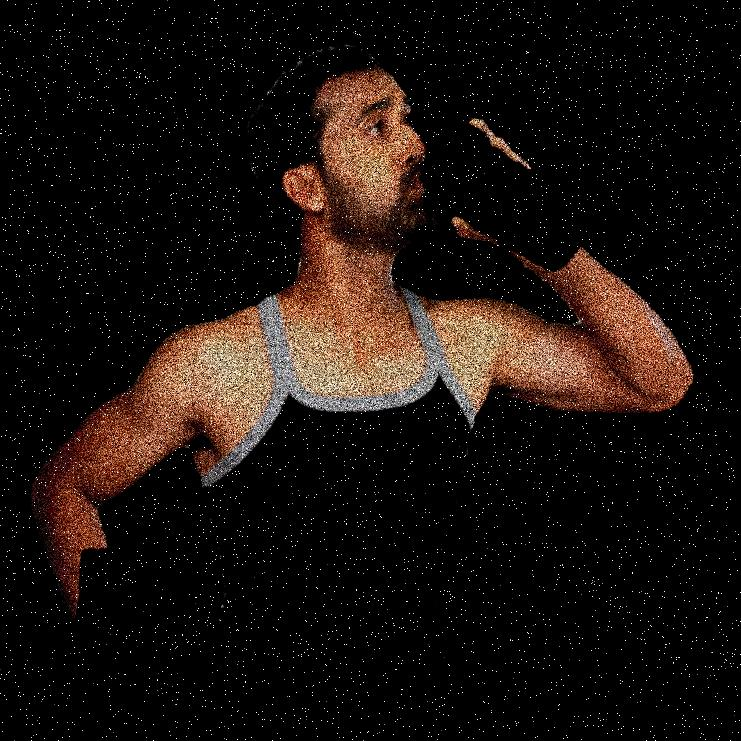Pessoa: (287, 0, 432, 740)
